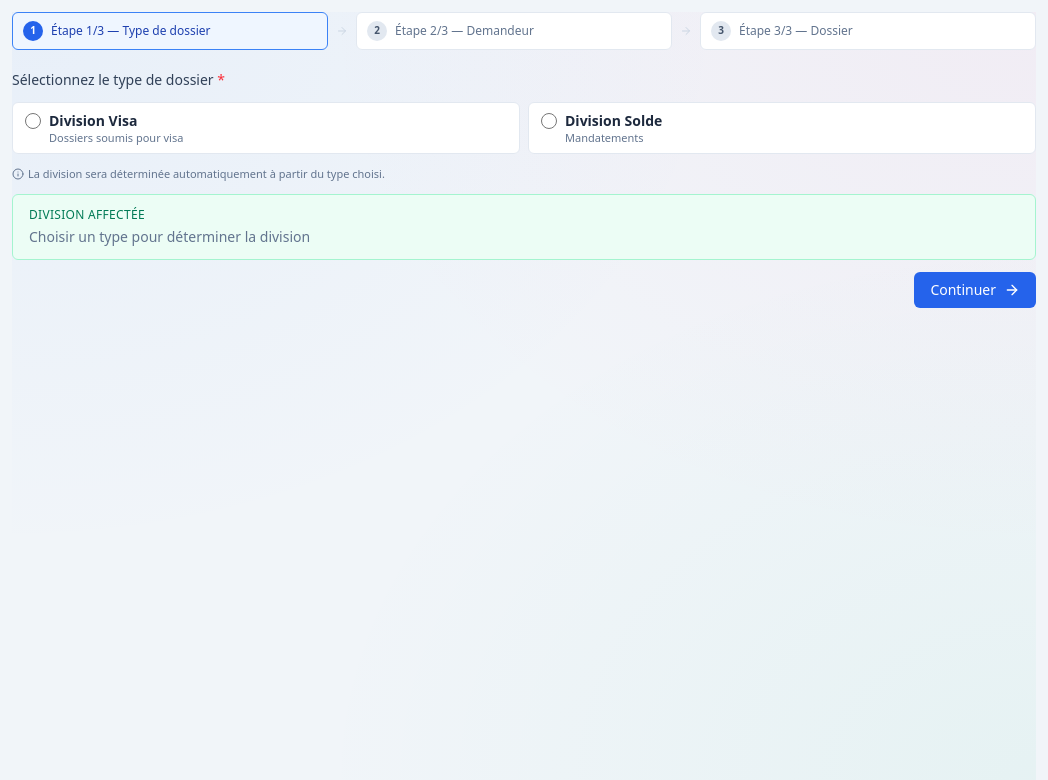
Création d'un dossier VISA — première étape › ne bloque jamais le passage : il explique ce qui manque
expect the text "Division Visa" is shown: met, box [49,111,137,130]
Click the radio button labelled "Division Visa Dossiers soumis pour visa". click: (33, 121)
box: [25,113,41,129]
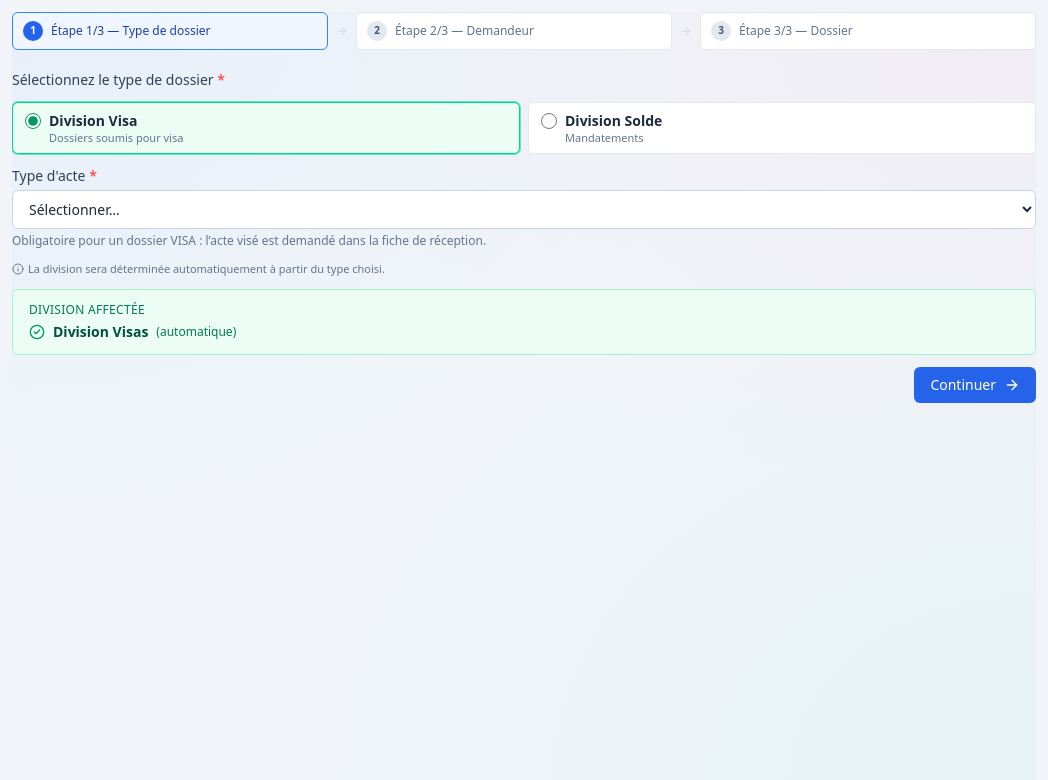
Click the button "Continuer". click: (975, 385)
box: [914,367,1036,403]
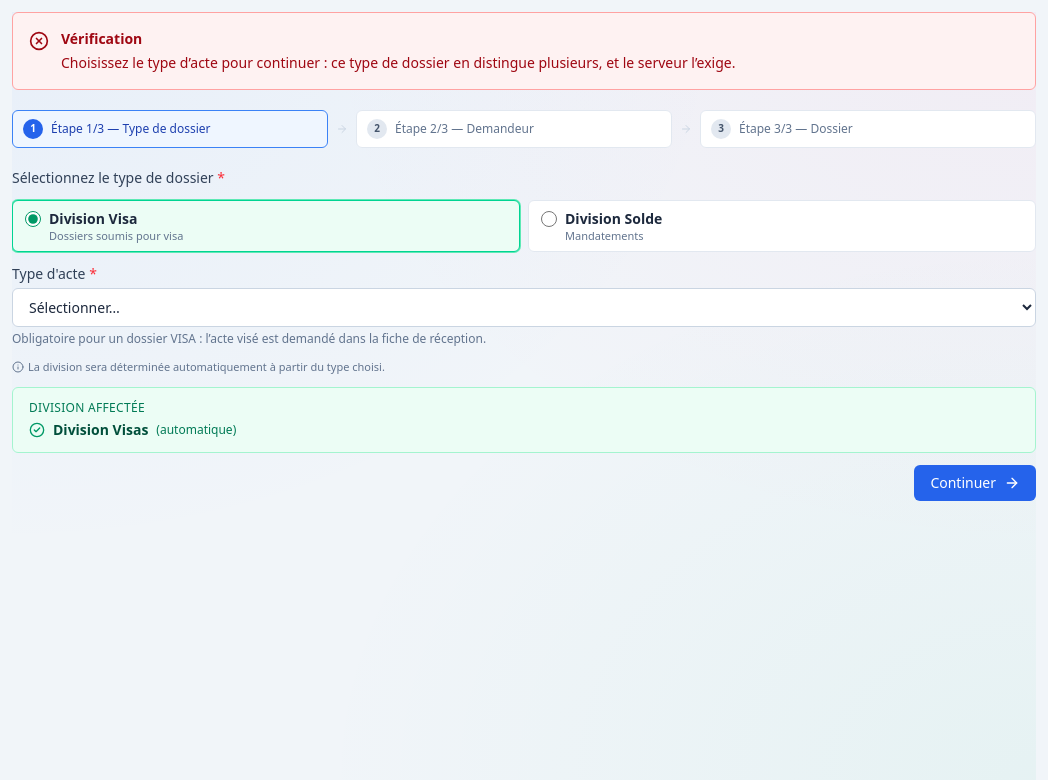
expect the message shows "type d’acte": met, box [61,53,736,72]
# Une fois l'acte choisi, le passage se fait.
Select "Visa de mariage" in the dropdown labelled "Type d'acte *". click: (524, 307)
box: [12,288,1036,327]
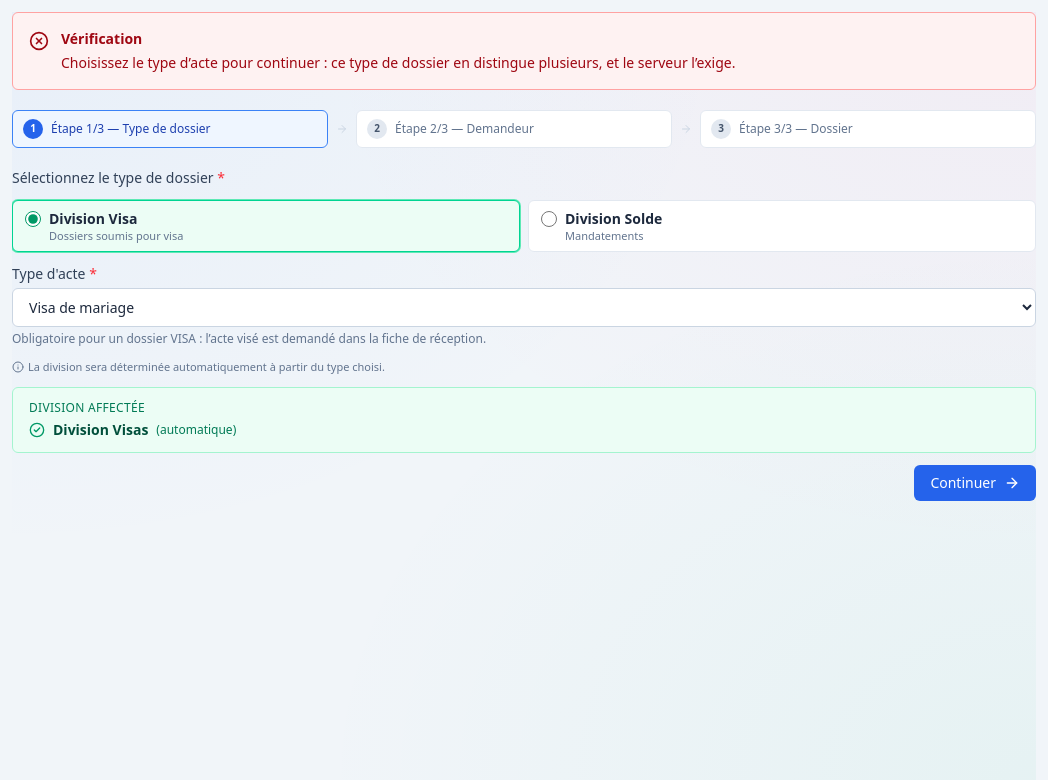
Click the button "Continuer". click: (975, 483)
box: [914,465,1036,501]
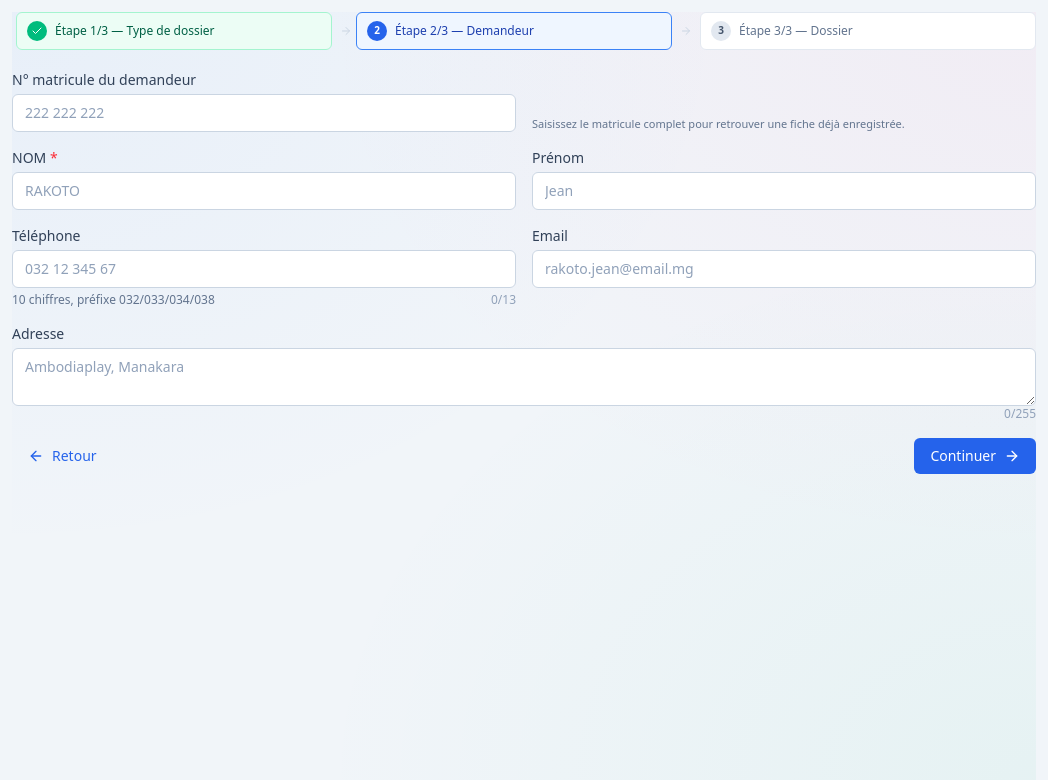
expect the field labelled "N° matricule du demandeur" is shown: met, box [12,94,516,132]
